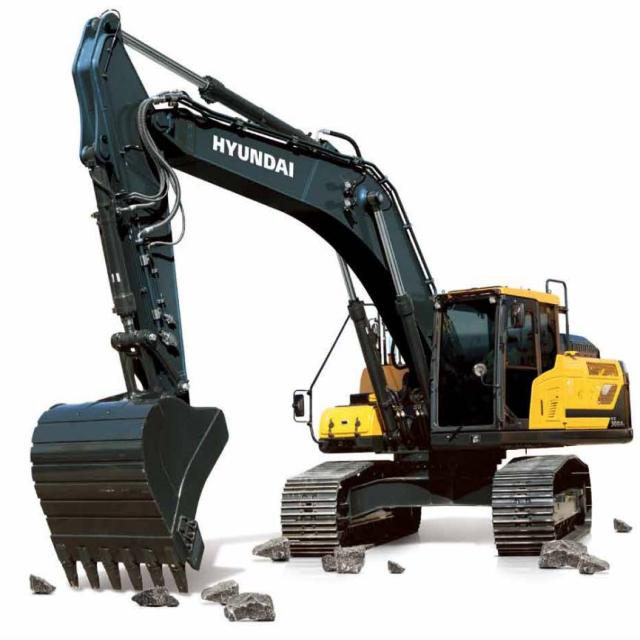excavator: (8, 3, 633, 604)
